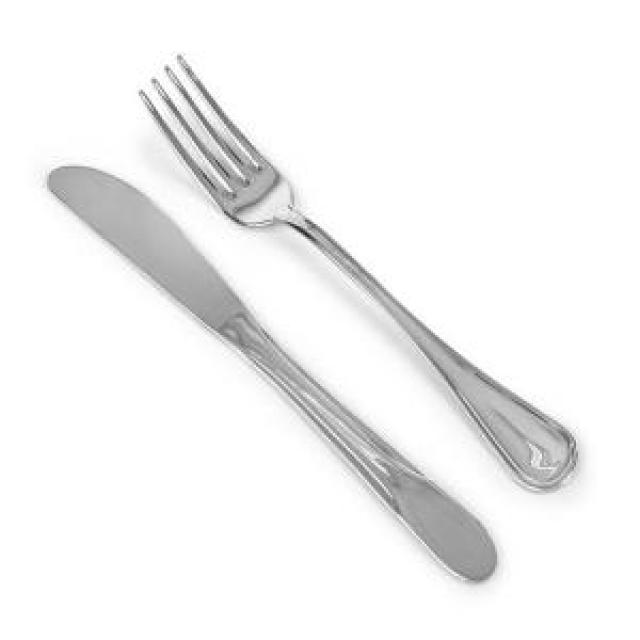knife: (42, 158, 504, 591)
